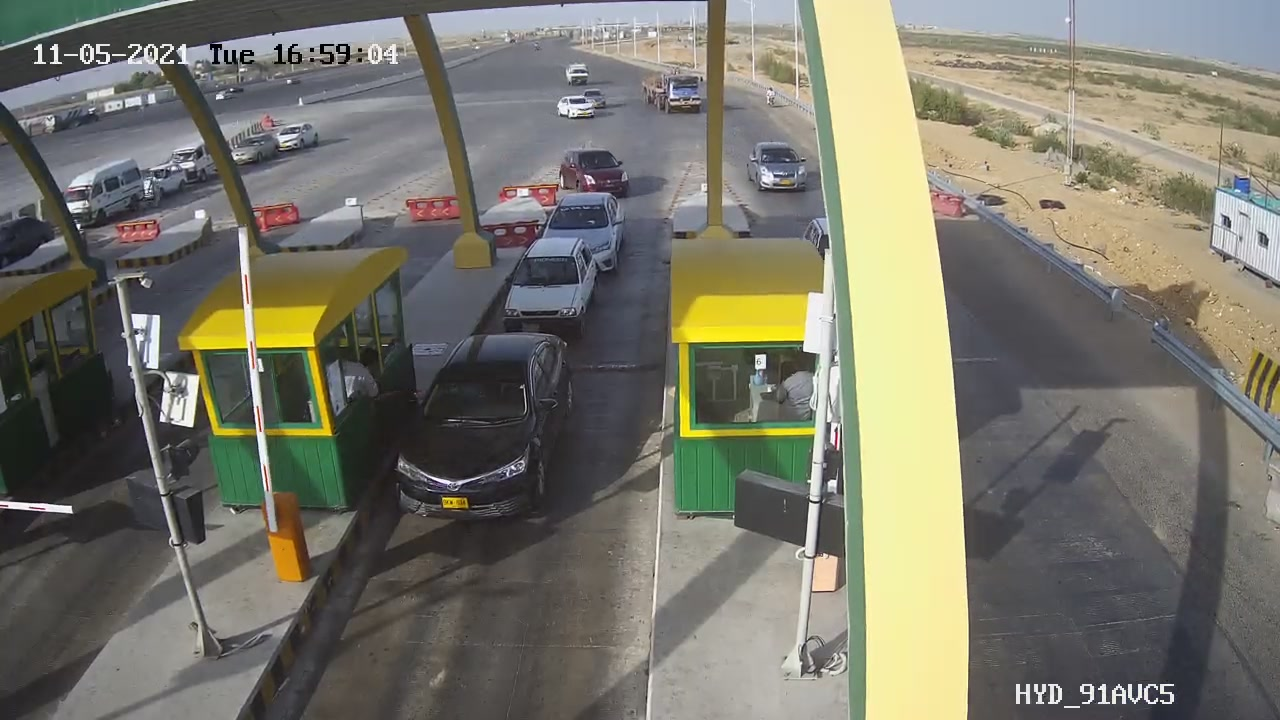F1: (381, 321, 592, 540), (489, 228, 611, 351)
